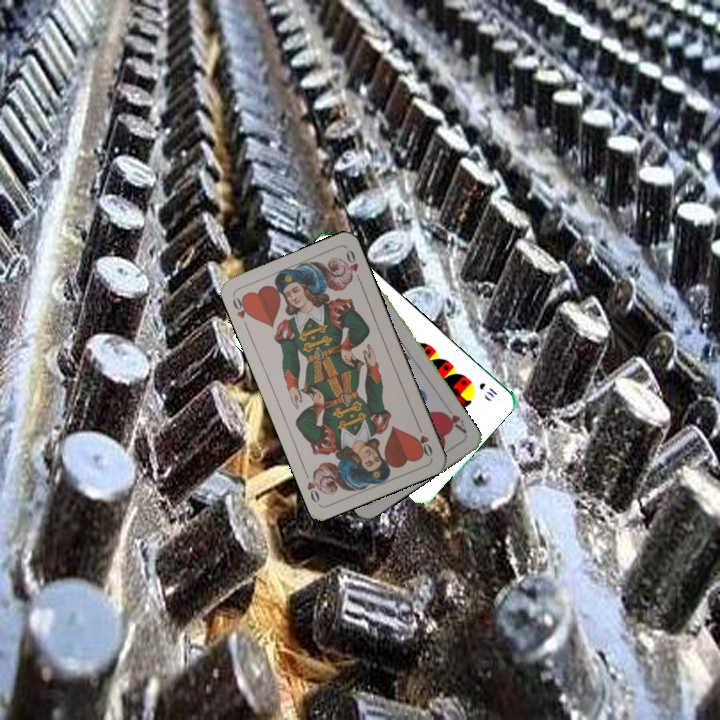HA: (438, 401, 469, 436)
HO: (228, 292, 254, 331), (413, 421, 435, 459)
S10: (475, 379, 500, 401)
